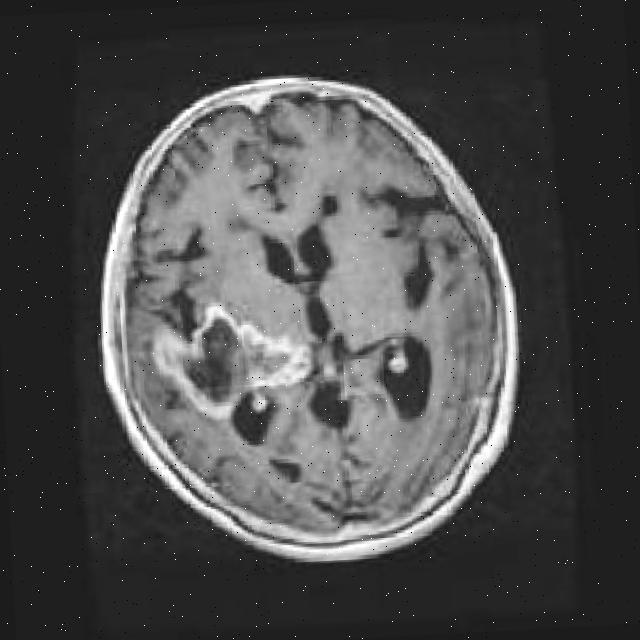EMCI: (150, 338, 298, 398)
